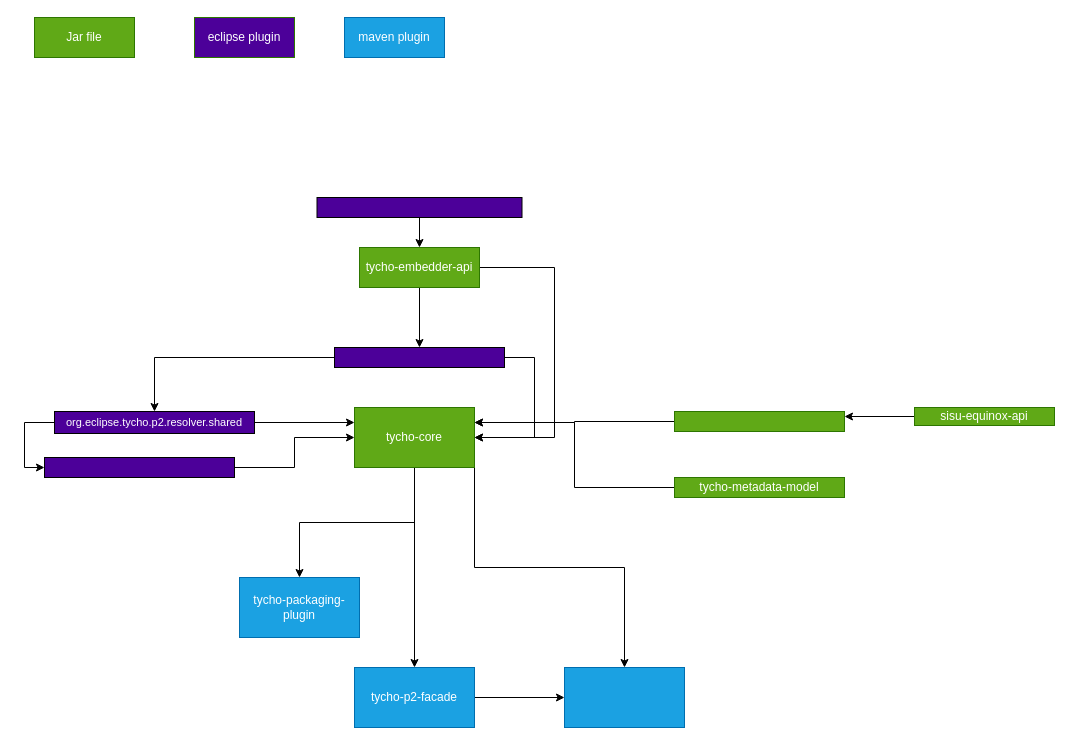
Image size: 1072x745. Some labels were removed from this diagram. Here are the shapes that lost their labels. From the top down, the centre of each, then its label:
point 419,207: org.eclipse.tycho.embedder.shared
point 419,357: org.eclipse.tycho.core.shared
point 759,421: sisu-equinox-embedder
point 139,467: org.eclipse.tycho.p2.tools.shared
point 624,697: tycho-maven-plugin
